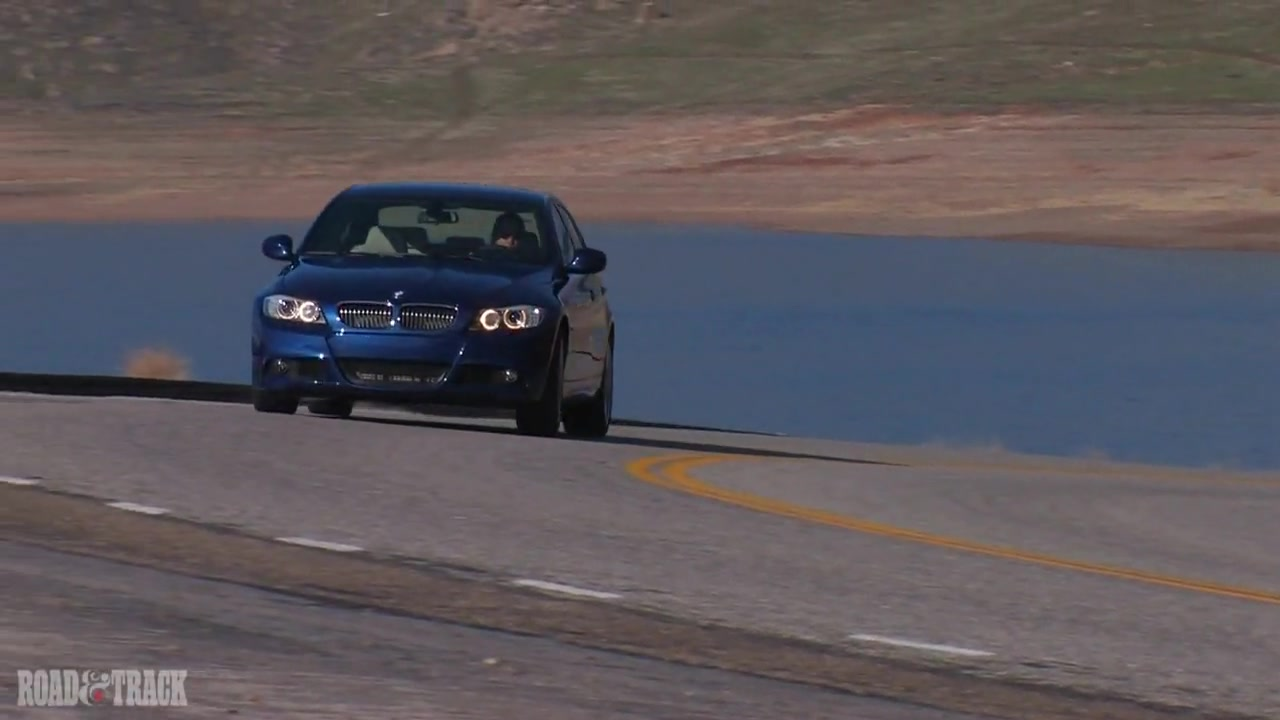car: (250, 173, 619, 444)
